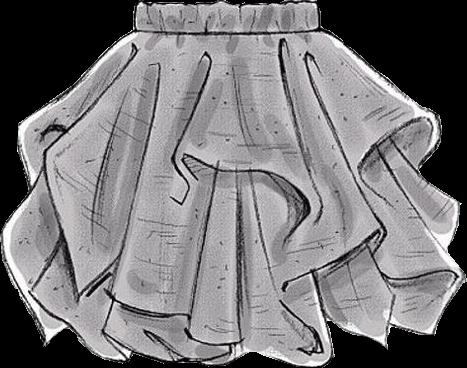Hemline: (18, 125, 462, 350), (0, 193, 466, 367)
Waistline: (131, 26, 321, 37), (135, 1, 317, 8)
